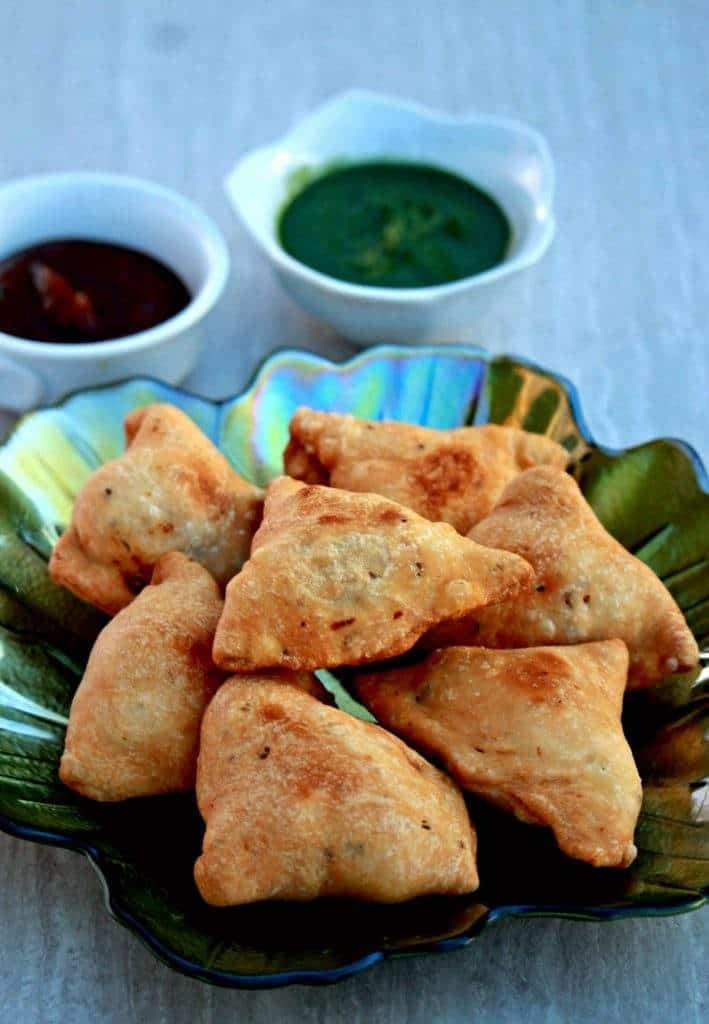samosa: (352, 640, 642, 867), (194, 674, 478, 905), (212, 476, 534, 671), (348, 534, 358, 545), (286, 770, 296, 778), (416, 434, 421, 439)
